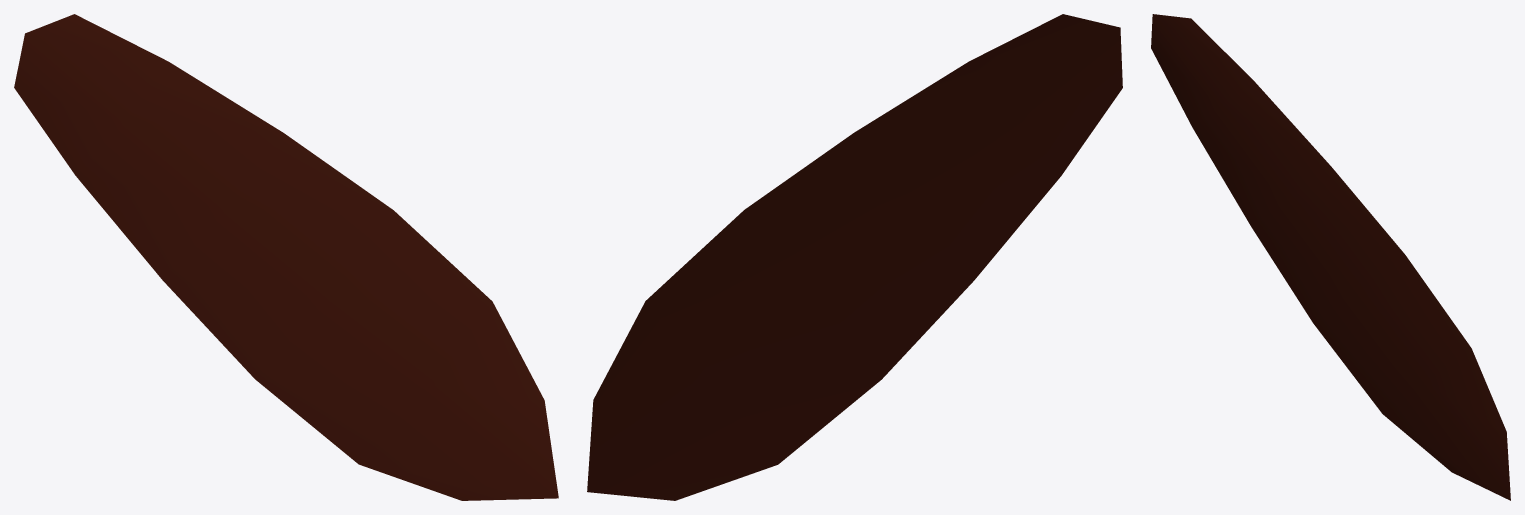
The model's file is pheasant_feather_flight_secondary_018.obj.
3 renders of one model, left to right at view 1: azimuth 30°, elevation 25°; view 2: azimuth 150°, elevation 25°; view 3: azimuth 330°, elevation 25°, orthographic. The views are drawn at different scales.
Parts seen in each view (by area): view 1: feather_flight_secondary_018; view 2: feather_flight_secondary_018; view 3: feather_flight_secondary_018.
Part boxes in pixels (left/top/right/bottom): feather_flight_secondary_018: left=14, top=14, right=558, bottom=500; feather_flight_secondary_018: left=587, top=14, right=1122, bottom=500; feather_flight_secondary_018: left=1151, top=14, right=1510, bottom=500.
Bounding box in the file's own units: 0.0476 × 0.0504 × 0.000676.
